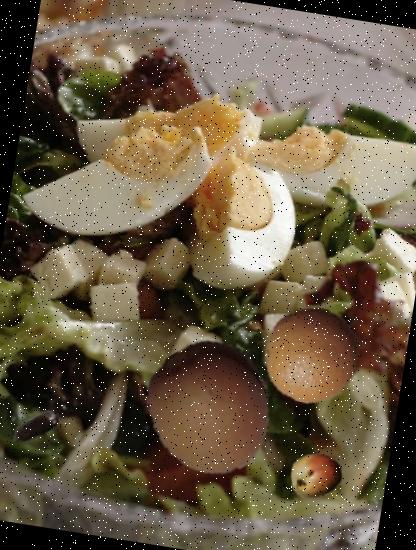Apricot: (134, 332, 288, 486)
Eggplant: (3, 396, 66, 460)
Orange: (258, 300, 368, 412)
Papaya: (286, 446, 347, 506)
